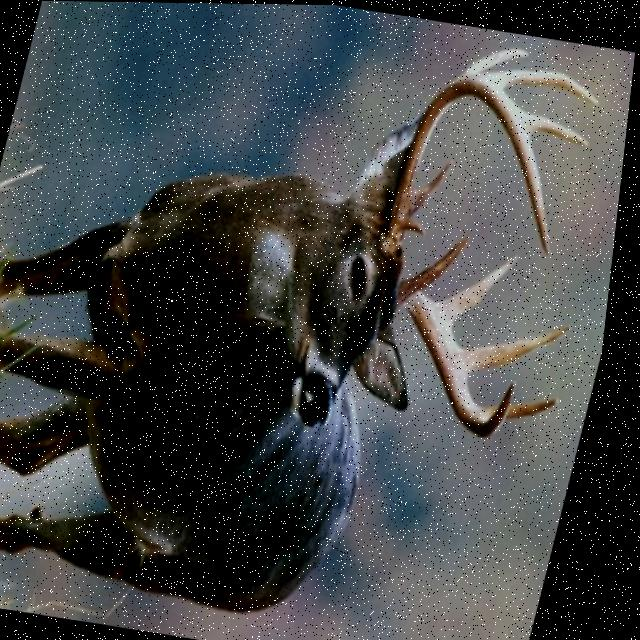E1: (408, 217, 432, 235)
L-F: (403, 276, 524, 437)
L-G1: (416, 234, 477, 291)
L-G2: (446, 252, 525, 322)
L-G3: (472, 322, 578, 374)
R-F: (387, 75, 556, 257)
R-G1: (411, 158, 458, 217)
R-G3: (503, 68, 601, 104)
R-G4: (529, 110, 592, 146)
